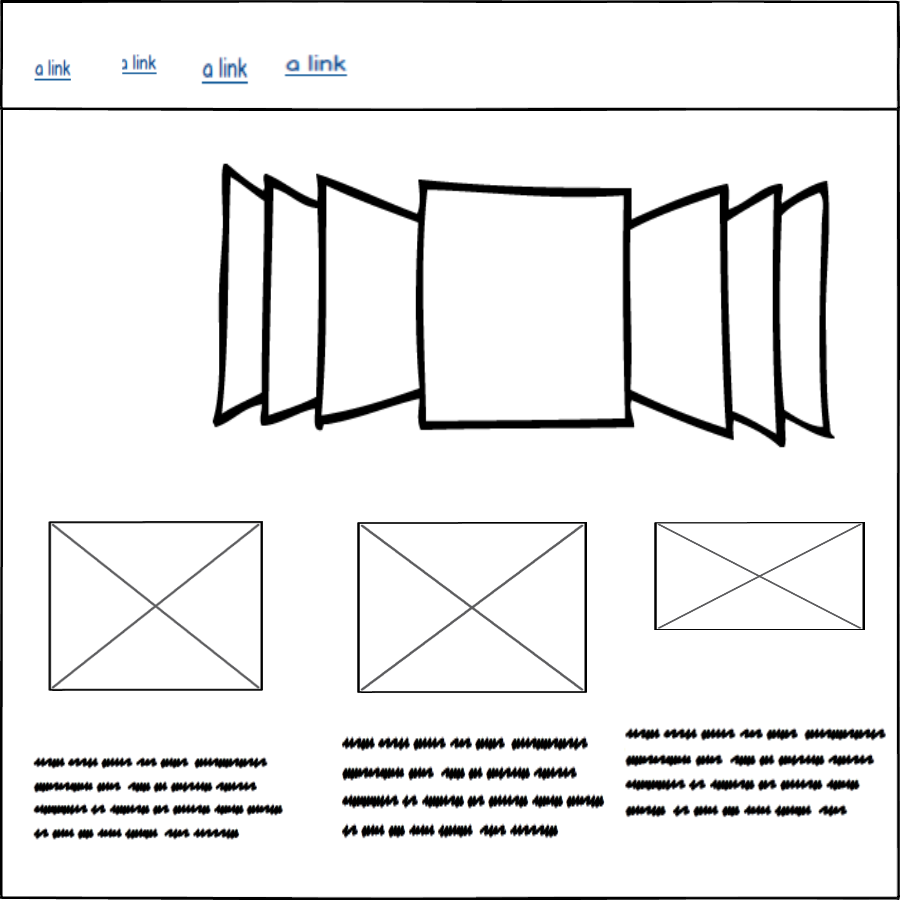image: (352, 518, 594, 699), (42, 511, 272, 696), (648, 517, 871, 637)
label: (338, 730, 608, 845), (623, 725, 892, 823), (33, 748, 285, 847)
navlink: (282, 45, 350, 84), (197, 51, 255, 88), (26, 51, 79, 91), (115, 47, 167, 84)
slideshow: (207, 154, 833, 448)
